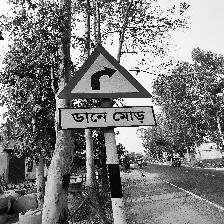Right-turn: (57, 44, 157, 132)
